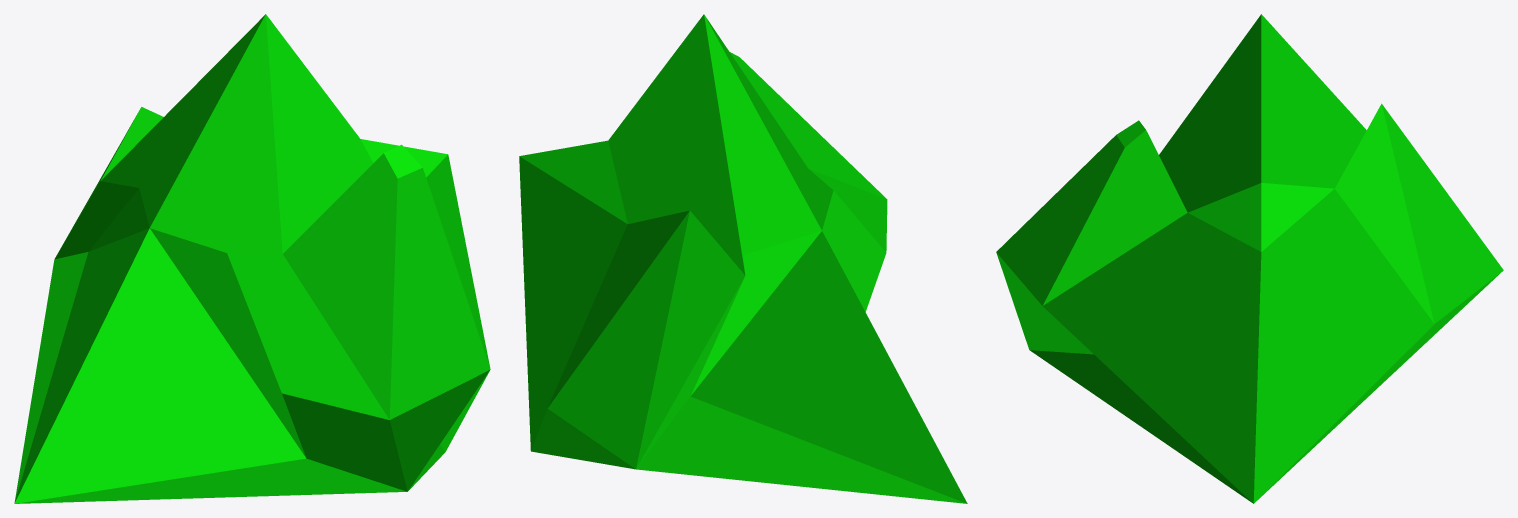
Rendered from iceberg02_collider.fbx.
3 renders of one model, left to right at view 1: azimuth 30°, elevation 25°; view 2: azimuth 150°, elevation 25°; view 3: azimuth 270°, elevation 25°, orthographic. The views are drawn at different scales.
Parts seen in each view (by area): view 1: iceberg02_collider; view 2: iceberg02_collider; view 3: iceberg02_collider.
Boxes of the visible parts, bbox=[...] form: iceberg02_collider: bbox=[14, 14, 490, 503]; iceberg02_collider: bbox=[519, 14, 967, 503]; iceberg02_collider: bbox=[996, 14, 1503, 503].
Bounding box in the file's own units: 0.1016 × 0.1058 × 0.1172.
